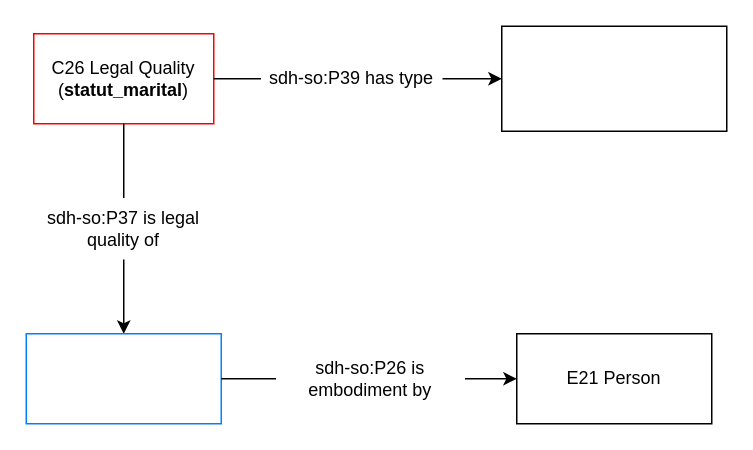
Image size: 753x450. Some labels were removed from this diagram. The centre of each missing label's shape, as x and y in pixels:
C13 Social Role Embodiment: point 123,378
C22 Legal Quality Type ("Statut marital"): point 613,78
